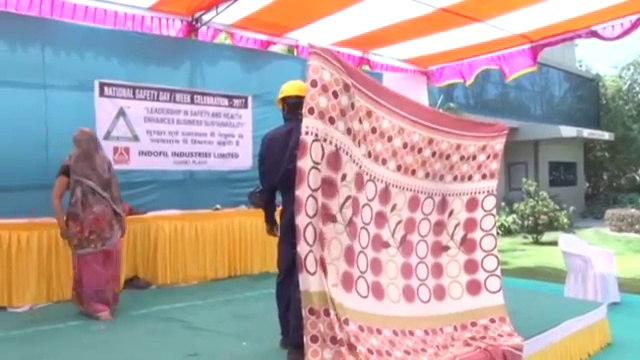helmet: (276, 76, 308, 106)
helmet_off: (72, 123, 101, 157)
helmet_on: (274, 77, 309, 124)
person: (49, 123, 129, 324), (254, 76, 306, 358)
